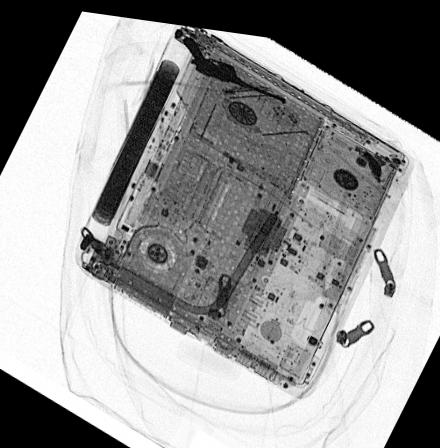Gun: (183, 31, 287, 95)
